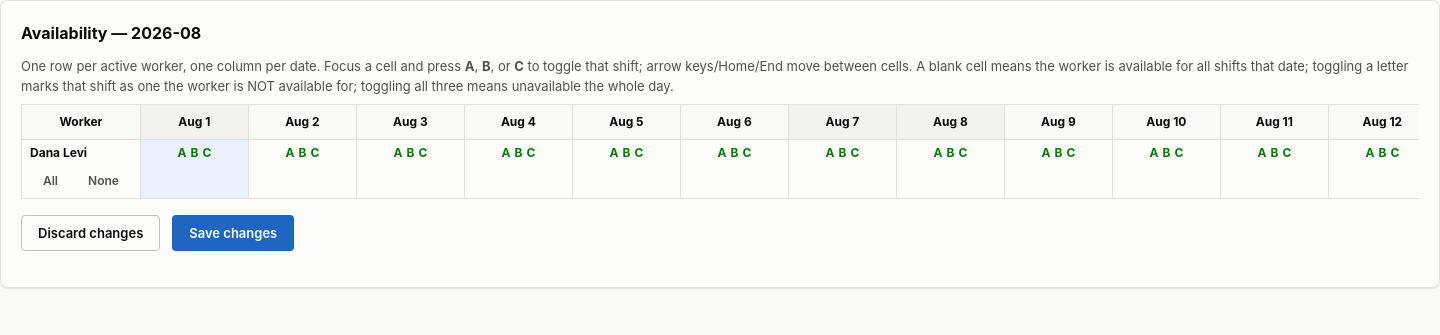
Test case: AvailabilityGrid › surfaces the server-provided 400 detail instead of a generic message
Click the button "Save changes": point(233, 233) [172,215,294,251]
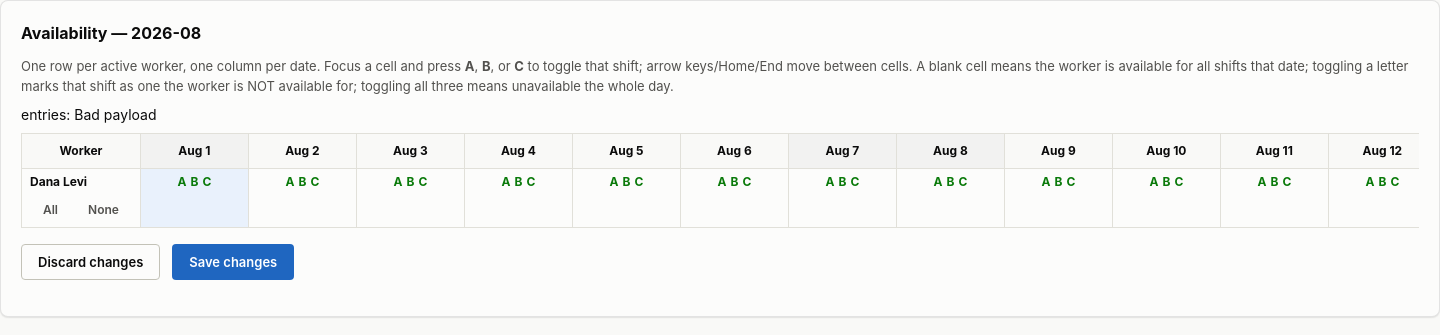
Result: the text "entries: Bad payload" is shown at [21,106,156,123]
